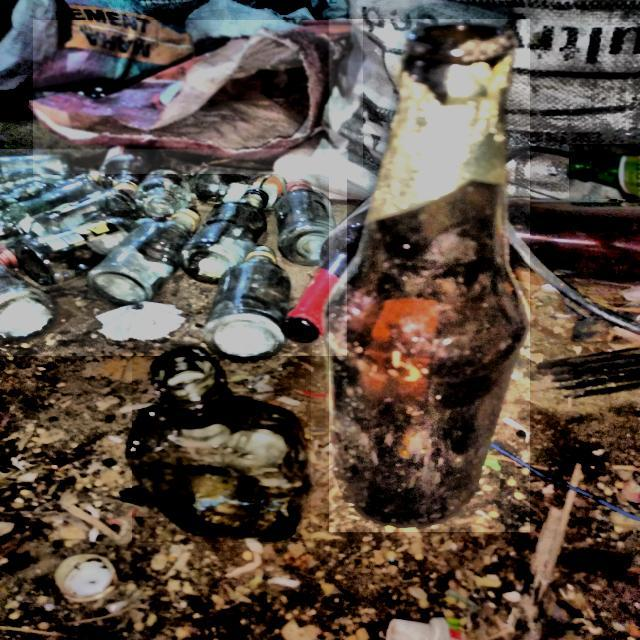anorganik: (329, 19, 530, 531), (0, 149, 347, 356), (33, 21, 363, 174), (132, 344, 311, 543), (570, 144, 639, 199)
